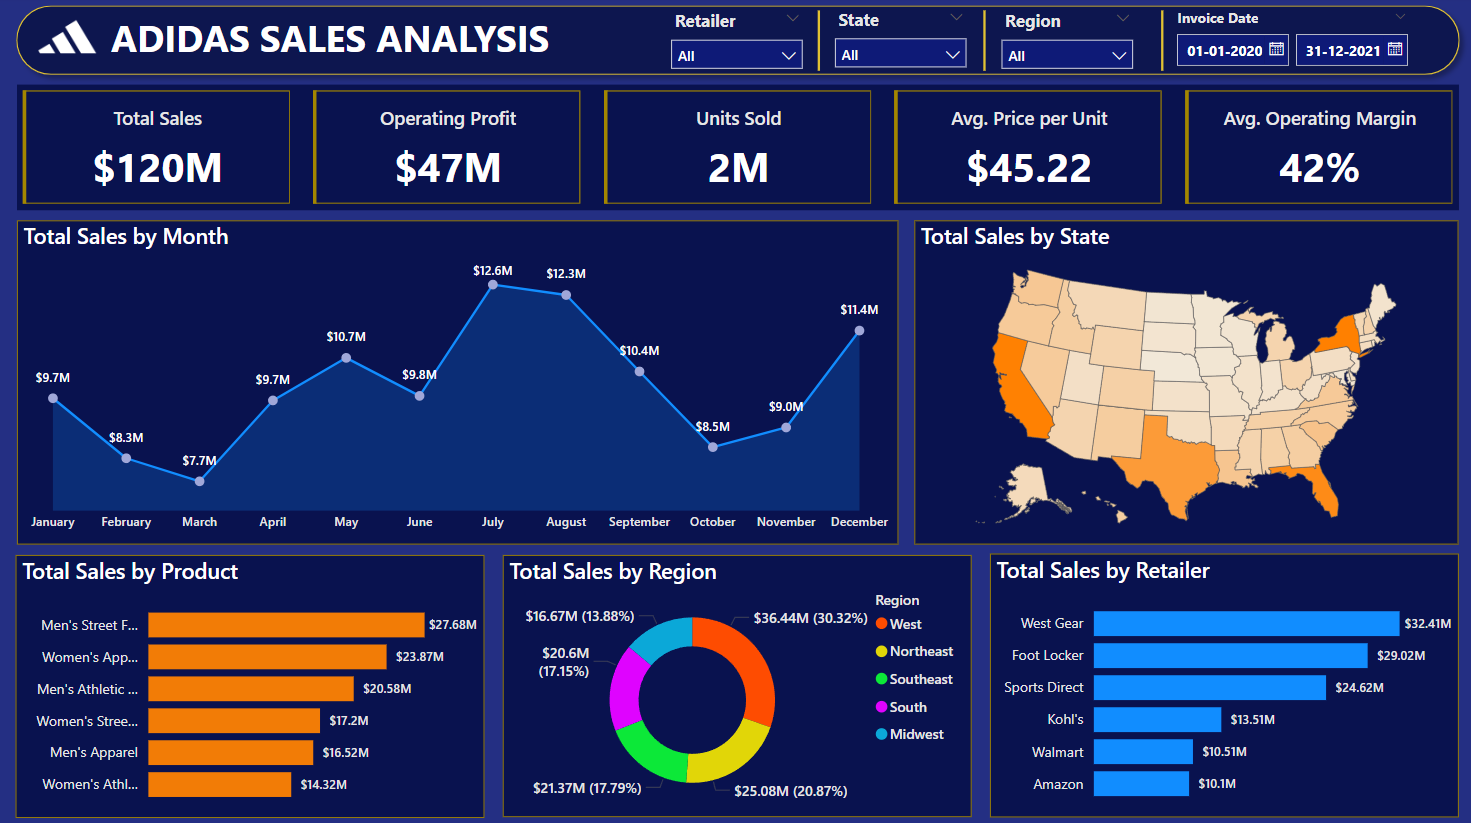

Layout of this report page (visuals, bound fields, positions):
{"tool":"powerbi","page":{"name":"Page 1","canvas":[1280,720],"ordinal":0},"visuals":[{"type":"shape","box":[8.3,0,1265,78],"z":0},{"type":"textbox","box":[94.5,9.7,415.9,58.6],"z":1000},{"type":"cardVisual","fields":{"Data":["Data Sales Adidas.Sum of Total Sales","Data Sales Adidas.Sum of Operating Profit","Data Sales Adidas.Sum of Units Sold","Data Sales Adidas.Average of Price per Unit","Data Sales Adidas.Sum of Operating Margin"]},"box":[17.9,77.9,1245.7,108.6],"z":2000},{"type":"areaChart","title":"Total Sales by Month","fields":{"Category":["Data Sales Adidas.Invoice Date.Variation.Date Hierarchy.Month"],"Y":["Sum(Data Sales Adidas.Total sale1)"]},"box":[17.9,195,761.4,280],"z":3000},{"type":"shapeMap","title":"Total Sales by State","fields":{"Category":["Data Sales Adidas.State"],"Value":["Sum(Data Sales Adidas.Total sale1)"]},"box":[793.6,195,470,280],"z":4000},{"type":"donutChart","title":"Total Sales by Region","fields":{"Category":["Data Sales Adidas.Region"],"Y":["Sum(Data Sales Adidas.Total_sales)"]},"box":[437.5,483.8,405,226.2],"z":5000},{"type":"barChart","title":"Total Sales by Product","fields":{"Category":["Data Sales Adidas.Product"],"Y":["Sum(Data Sales Adidas.Total sale1)"]},"box":[17.5,483.8,405,227],"z":6000},{"type":"barChart","title":"Total Sales by Retailer","fields":{"Category":["Data Sales Adidas.Retailer"],"Y":["Sum(Data Sales Adidas.Total_sales)"]},"box":[858.8,482.5,405,227.5],"z":7000},{"type":"slicer","fields":{"Values":["Data Sales Adidas.Region"]},"box":[858.9,6.7,133.3,58.9],"z":8000},{"type":"slicer","fields":{"Values":["Data Sales Adidas.Invoice Date"]},"box":[1007.8,5.6,223.3,58.9],"z":9000},{"type":"image","box":[22.5,6.2,77.5,60],"z":10000},{"type":"shape","box":[1001.7,13.3,12.2,52.2],"z":11000},{"type":"shape","box":[707.8,13.3,6.7,52.2],"z":11002},{"type":"slicer","fields":{"Values":["Data Sales Adidas.State"]},"box":[714.4,5.6,133.3,58.9],"z":11003},{"type":"slicer","fields":{"Values":["Data Sales Adidas.Retailer"]},"box":[573.3,6.7,133.3,60],"z":11004},{"type":"shape","box":[847.8,13.3,12.2,52.2],"z":11005}]}

Visuals, with their boxes in screenshot pixels (x1, y1, x2, y2), scaled from the page's 1280x720 canvas onto the 1471x823 screenshot:
shape: [10,0,1463,89]
textbox: [109,11,587,78]
cardVisual - Data Sales Adidas.Sum of Total Sales x Data Sales Adidas.Sum of Operating Profit: [21,89,1452,213]
"Total Sales by Month" areaChart: [21,223,896,543]
"Total Sales by State" shapeMap: [912,223,1452,543]
"Total Sales by Region" donutChart: [503,553,968,812]
"Total Sales by Product" barChart: [20,553,486,812]
"Total Sales by Retailer" barChart: [987,552,1452,812]
slicer - Data Sales Adidas.Region: [987,8,1140,75]
slicer - Data Sales Adidas.Invoice Date: [1158,6,1415,74]
image: [26,7,115,76]
shape: [1151,15,1165,75]
shape: [813,15,821,75]
slicer - Data Sales Adidas.State: [821,6,974,74]
slicer - Data Sales Adidas.Retailer: [659,8,812,76]
shape: [974,15,988,75]
